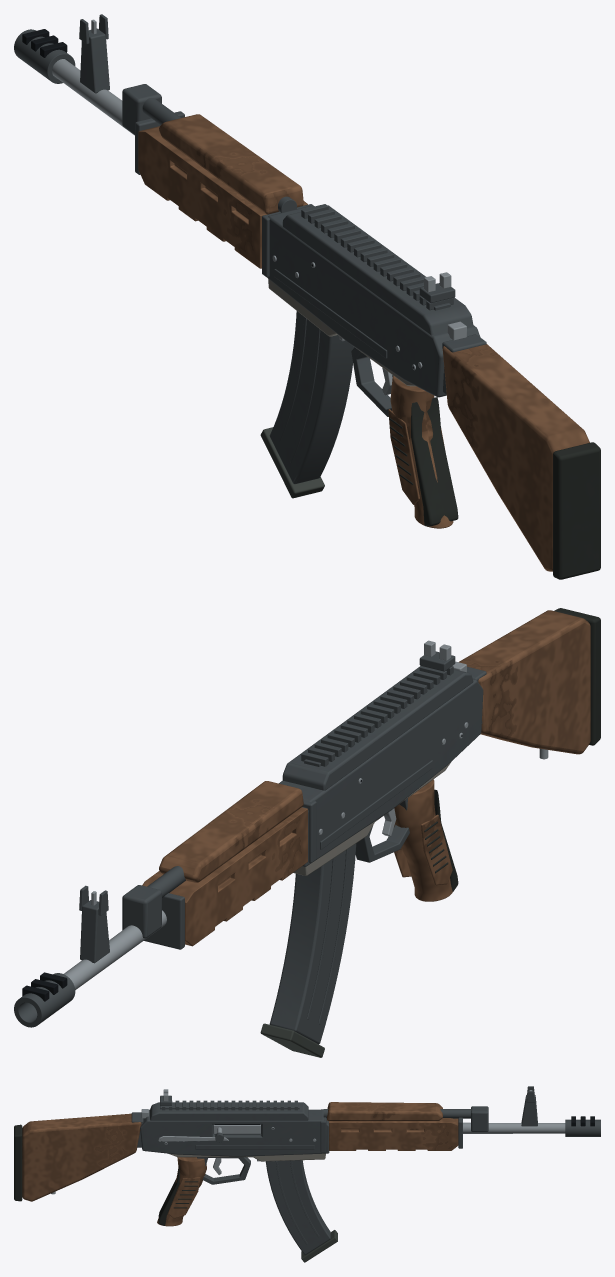
Rendered from ravager.glb.
3 views of the same model, one above another, from view 1: azimuth 30°, elevation 25°; view 2: azimuth 150°, elevation 25°; view 3: azimuth 270°, elevation 25° (orthographic). The views are drawn at different scales.
Parts seen in each view (by area): view 1: Ravager_Static_Treated graphite, Ravager_Stock, Ravager_Static_Laminated walnut, Ravager_Receiver, Ravager_Magazine, Ravager_Buttpad, Ravager_Static_Dense rubber, Ravager_Grip, Ravager_Barrel, Ravager_MagazineFloorplate, Ravager_Static_Machined steel, Ravager_Lower; view 2: Ravager_Static_Treated graphite, Ravager_Static_Laminated walnut, Ravager_Stock, Ravager_Receiver, Ravager_Magazine, Ravager_Grip, Ravager_Barrel, Ravager_Buttpad, Ravager_MagazineFloorplate, Ravager_Lower, Ravager_Static_Recess shadow, Ravager_Static_Machined steel (+1 smaller); view 3: Ravager_Stock, Ravager_Static_Laminated walnut, Ravager_Static_Treated graphite, Ravager_Receiver, Ravager_Magazine, Ravager_Barrel, Ravager_Grip, Ravager_Buttpad, Ravager_Lower, Ravager_Static_Dense rubber, Ravager_Static_Machined steel, Ravager_Slide (+2 smaller).
Boxes of the visible parts, x1,y1,x2,y2 form: Ravager_Static_Treated graphite: (14, 14, 473, 416); Ravager_Stock: (442, 344, 589, 571); Ravager_Static_Laminated walnut: (138, 114, 444, 504); Ravager_Receiver: (267, 206, 480, 397); Ravager_Magazine: (269, 311, 354, 484); Ravager_Buttpad: (553, 442, 600, 579); Ravager_Static_Dense rubber: (389, 397, 458, 526); Ravager_Grip: (390, 376, 453, 528); Ravager_Barrel: (52, 59, 134, 135); Ravager_MagazineFloorplate: (260, 427, 324, 498); Ravager_Static_Machined steel: (91, 19, 466, 370); Ravager_Lower: (268, 278, 415, 386); Ravager_Static_Treated graphite: (14, 651, 473, 1027); Ravager_Static_Laminated walnut: (142, 781, 452, 946); Ravager_Stock: (458, 610, 590, 754); Ravager_Receiver: (279, 679, 483, 866); Ravager_Magazine: (269, 843, 356, 1044); Ravager_Grip: (394, 779, 452, 901); Ravager_Barrel: (64, 910, 166, 989); Ravager_Buttpad: (554, 608, 600, 745); Ravager_MagazineFloorplate: (260, 1023, 324, 1057); Ravager_Lower: (293, 762, 450, 875); Ravager_Static_Recess shadow: (22, 734, 462, 1001); Ravager_Static_Machined steel: (91, 640, 468, 905); Ravager_Stock: (22, 1113, 141, 1201); Ravager_Static_Laminated walnut: (168, 1102, 458, 1218); Ravager_Static_Treated graphite: (150, 1086, 600, 1184); Ravager_Receiver: (140, 1109, 329, 1156); Ravager_Magazine: (265, 1160, 330, 1254); Ravager_Barrel: (463, 1122, 565, 1133); Ravager_Grip: (157, 1157, 206, 1226); Ravager_Buttpad: (14, 1124, 22, 1201); Ravager_Lower: (168, 1153, 325, 1161); Ravager_Static_Dense rubber: (158, 1166, 198, 1225); Ravager_Static_Machined steel: (141, 1089, 532, 1161); Ravager_Slide: (213, 1124, 260, 1133).
Size of the model in its own units: 0.076 by 0.3156 by 0.988.
7 materials, 7 textured.
